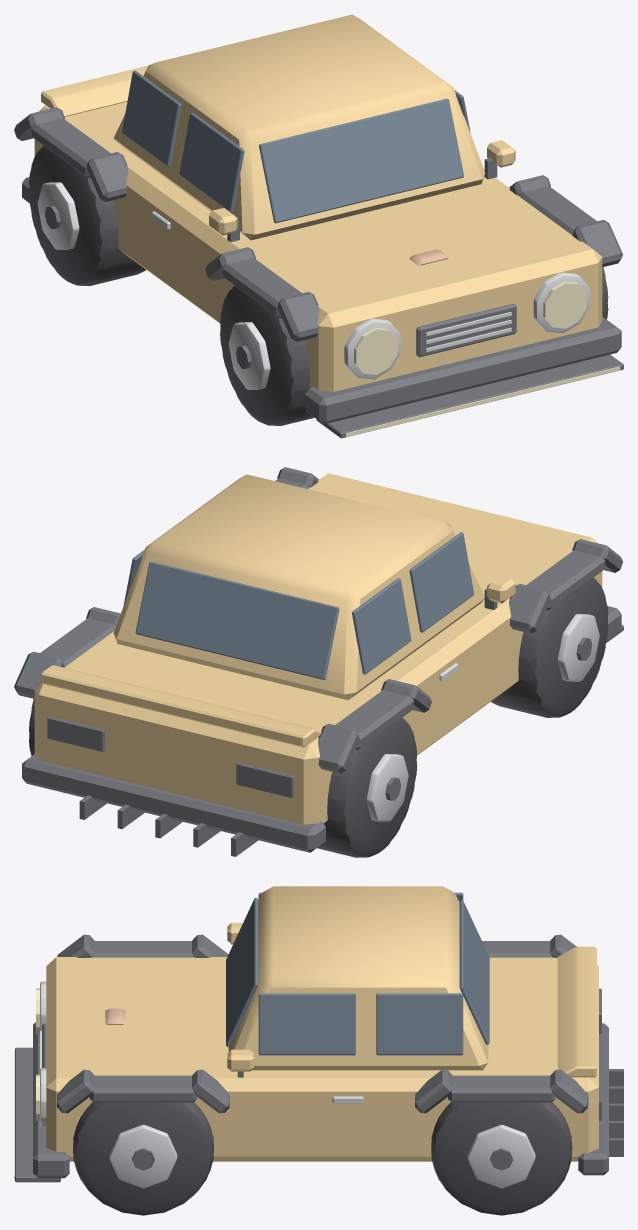
The model's file is rusty_hatchback.fbx.
The picture shows the model from 3 angles, top to bottom: view 1: azimuth 30°, elevation 25°; view 2: azimuth 150°, elevation 25°; view 3: azimuth 270°, elevation 25°; orthographic projection. The views are drawn at different scales.
Parts seen in each view (by area): view 1: Body, Trim, Glass, Metal, Wheel_RR, Wheel_FR, Light; view 2: Body, Trim, Glass, Wheel_FR, Wheel_RR, Metal; view 3: Body, Trim, Glass, Wheel_RL, Wheel_FL, Metal, Light.
Part boxes in pixels (box(x1,y1,x2,y2)): Body: box(34, 14, 602, 391); Trim: box(14, 107, 623, 438); Glass: box(122, 70, 470, 223); Metal: box(37, 182, 589, 389); Wheel_RR: box(29, 146, 145, 286); Wheel_FR: box(220, 285, 314, 425); Light: box(345, 281, 620, 436); Body: box(34, 473, 602, 824); Trim: box(14, 467, 623, 856); Glass: box(123, 524, 474, 679); Wheel_FR: box(491, 577, 608, 717); Wheel_RR: box(317, 717, 417, 857); Metal: box(366, 614, 599, 821); Body: box(46, 886, 598, 1161); Trim: box(15, 934, 623, 1182); Glass: box(226, 892, 489, 1055); Wheel_RL: box(431, 1102, 572, 1215); Wheel_FL: box(73, 1102, 213, 1215); Metal: box(40, 981, 535, 1188); Light: box(14, 988, 39, 1179).
Bounding box in the file's own units: 3.64 × 2.31 × 5.96.
